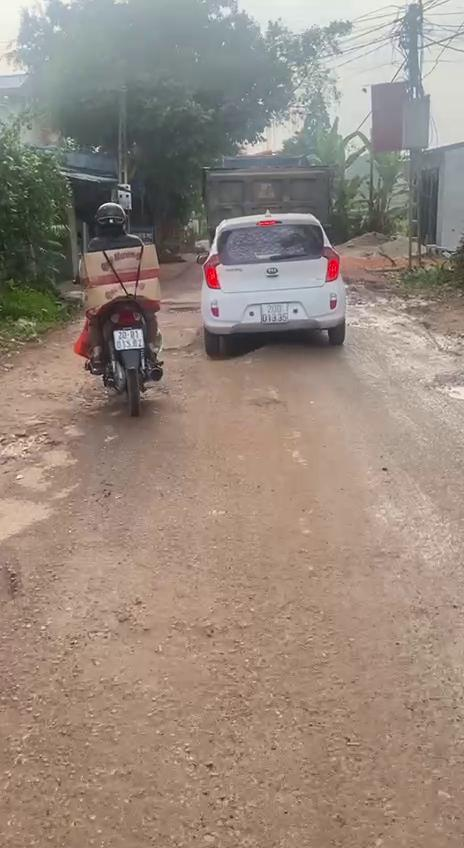pothole: (0, 427, 61, 465), (423, 372, 464, 402)
